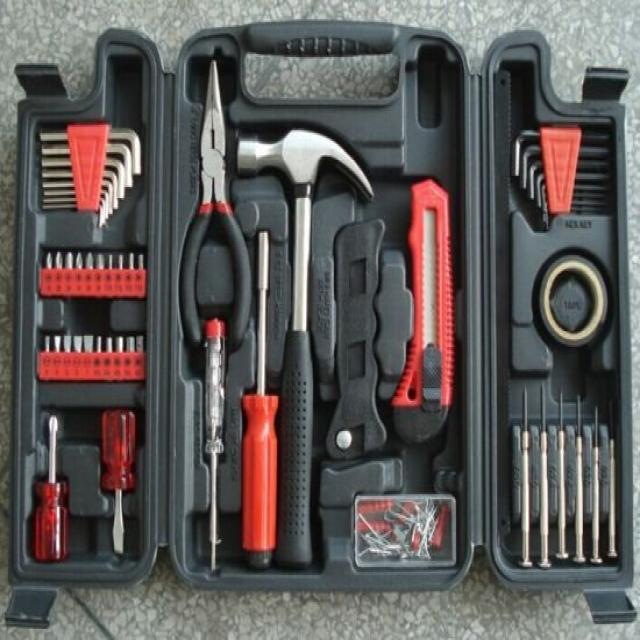Screwdriver: (243, 231, 279, 568), (204, 318, 225, 573), (33, 415, 69, 562), (101, 408, 136, 554)
